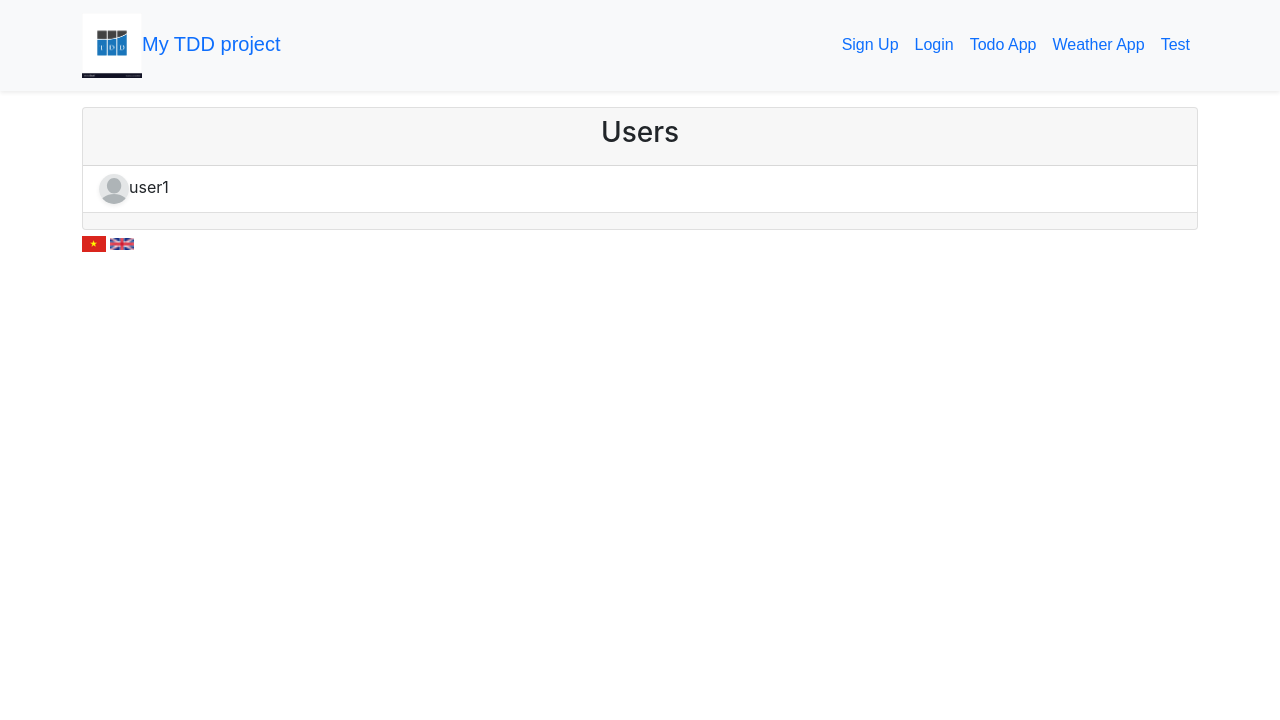
Test: routing › display signup-page after clicking Sign Up link
Click the link "Sign Up": click(870, 45) [842, 36, 898, 53]
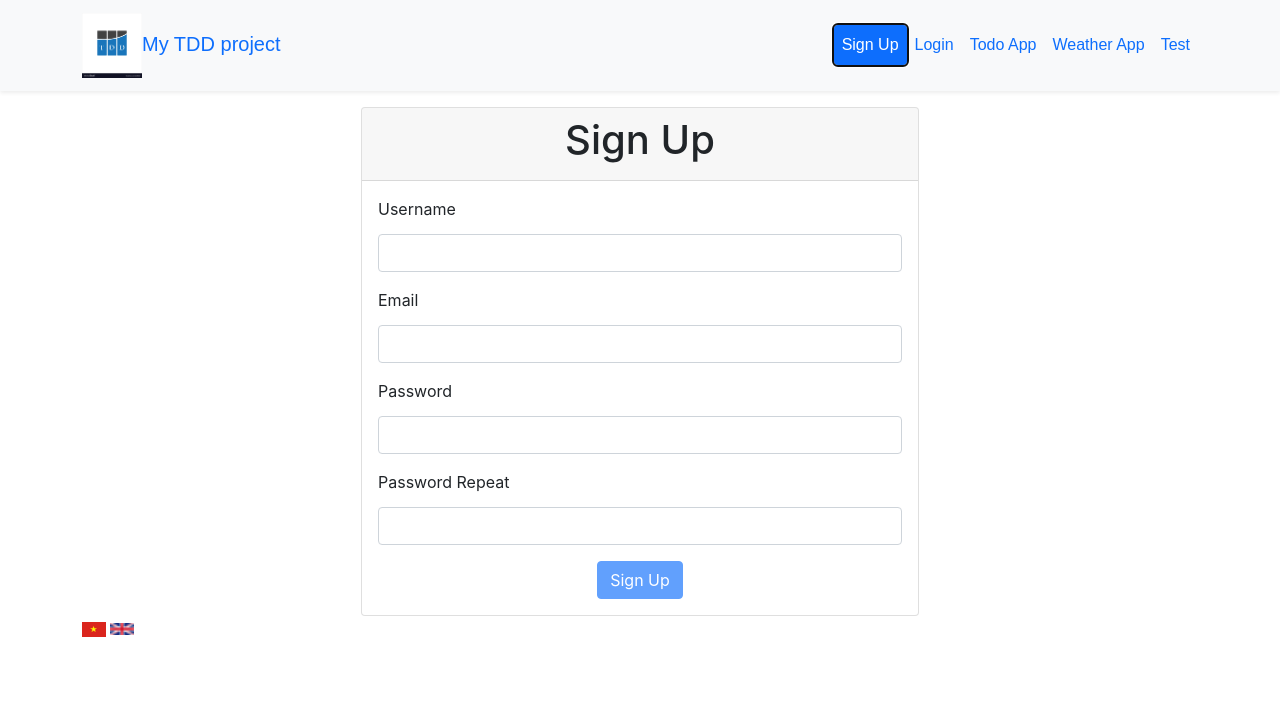
Check: the element with test id "signup-page" is shown, box [361, 107, 919, 616]
